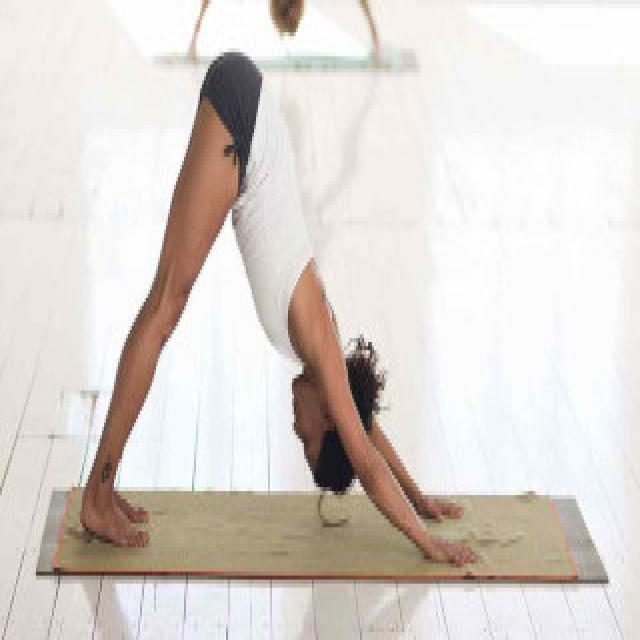yoga-pose downward: (76, 50, 476, 563)
